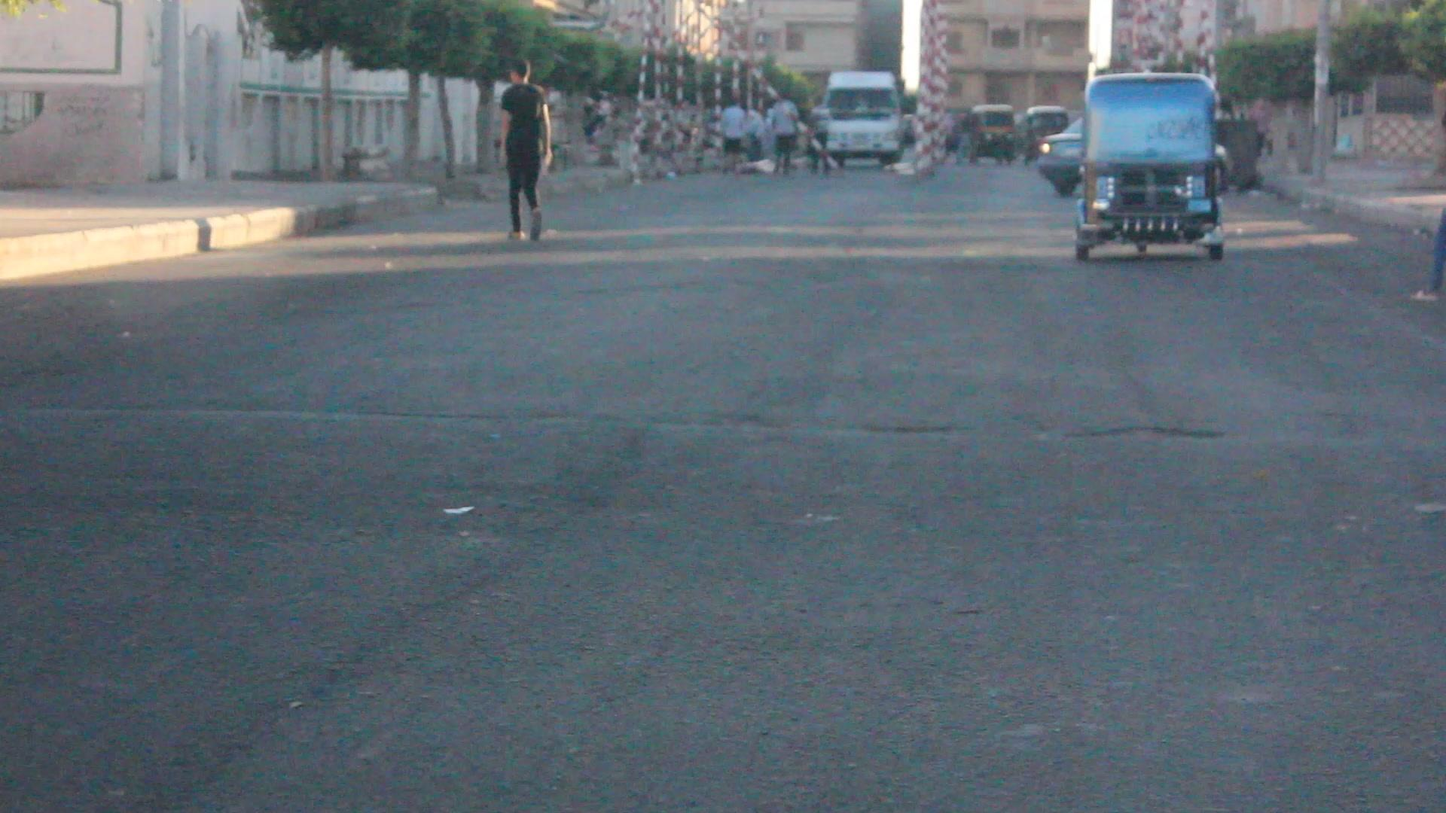Bump: (2, 388, 1446, 506)
